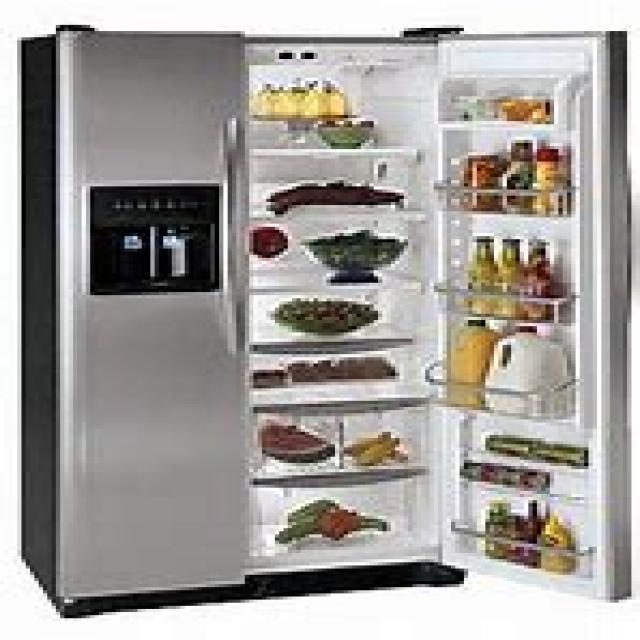fridge: (17, 22, 636, 615)
